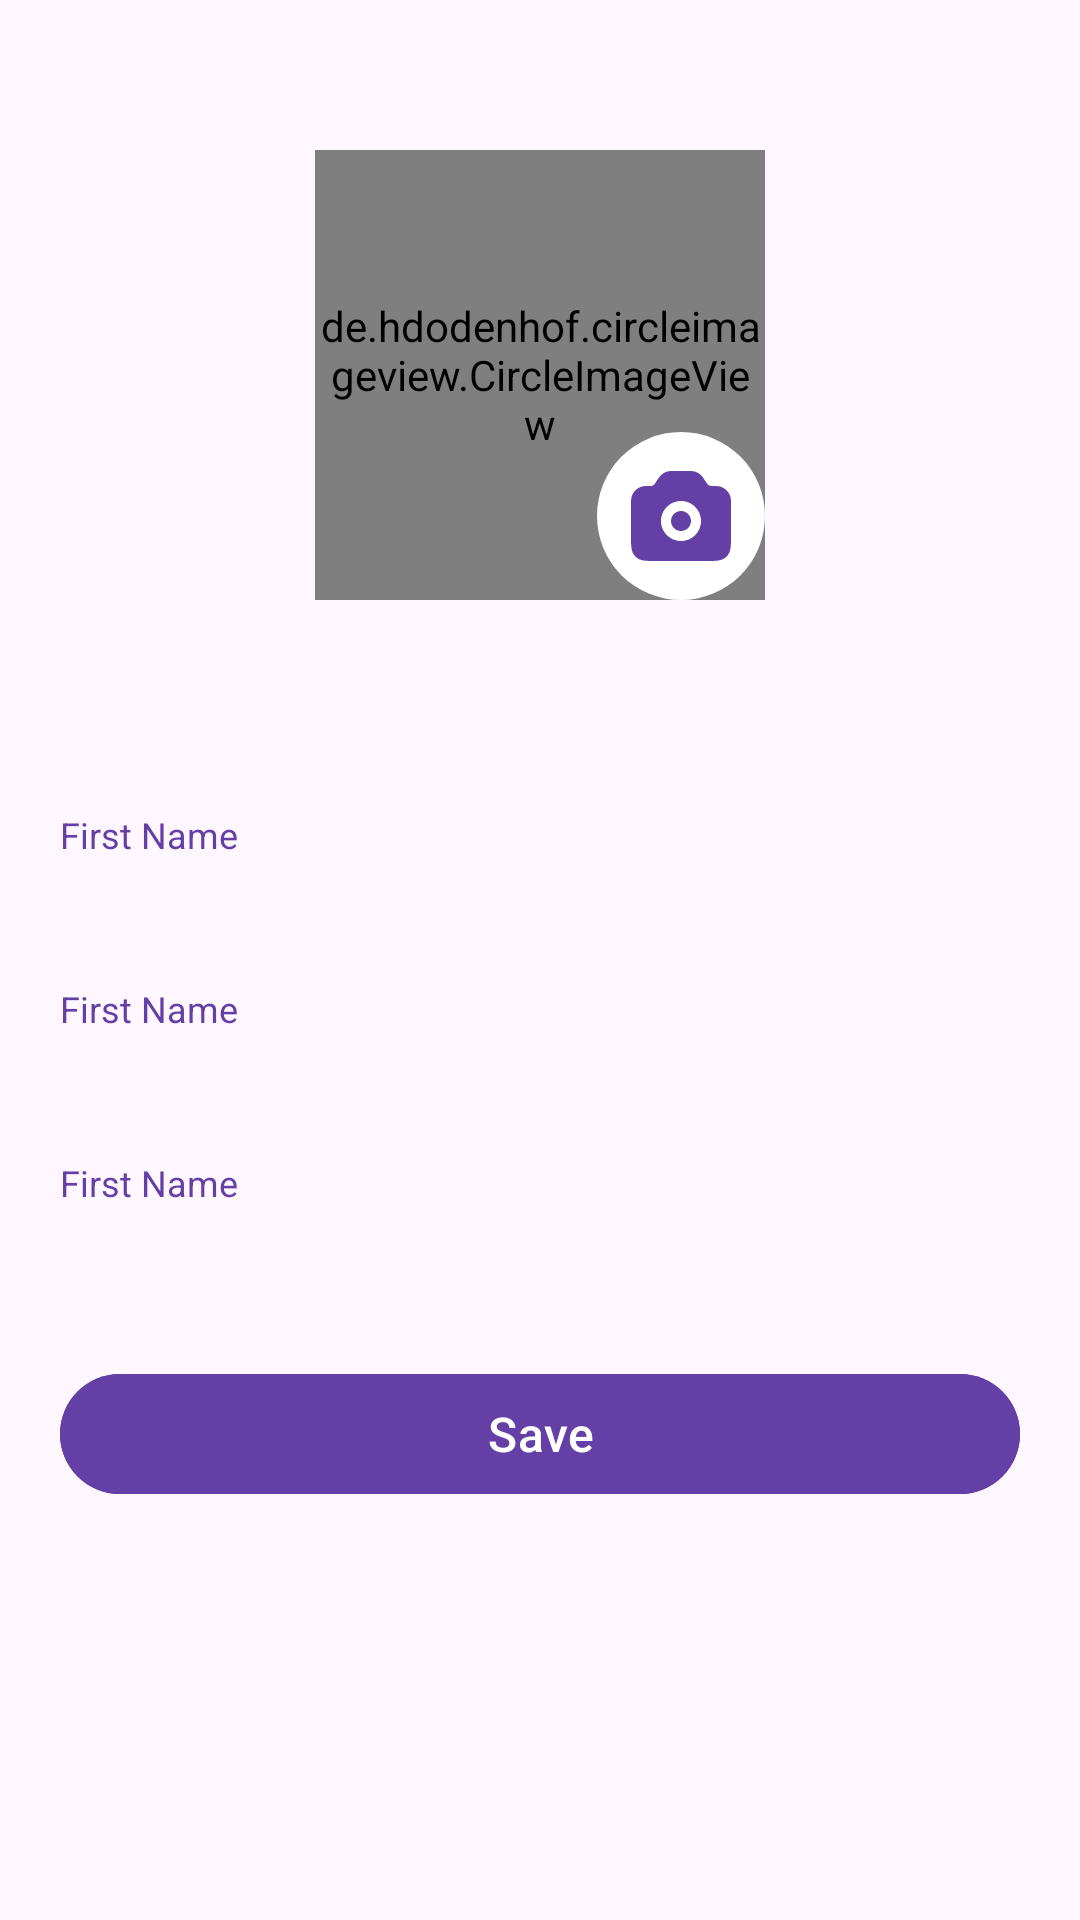

Named icons in this screenshot (1080px×1920px) and their centers, (x=x, y=y):
camera: (x=681, y=516)
